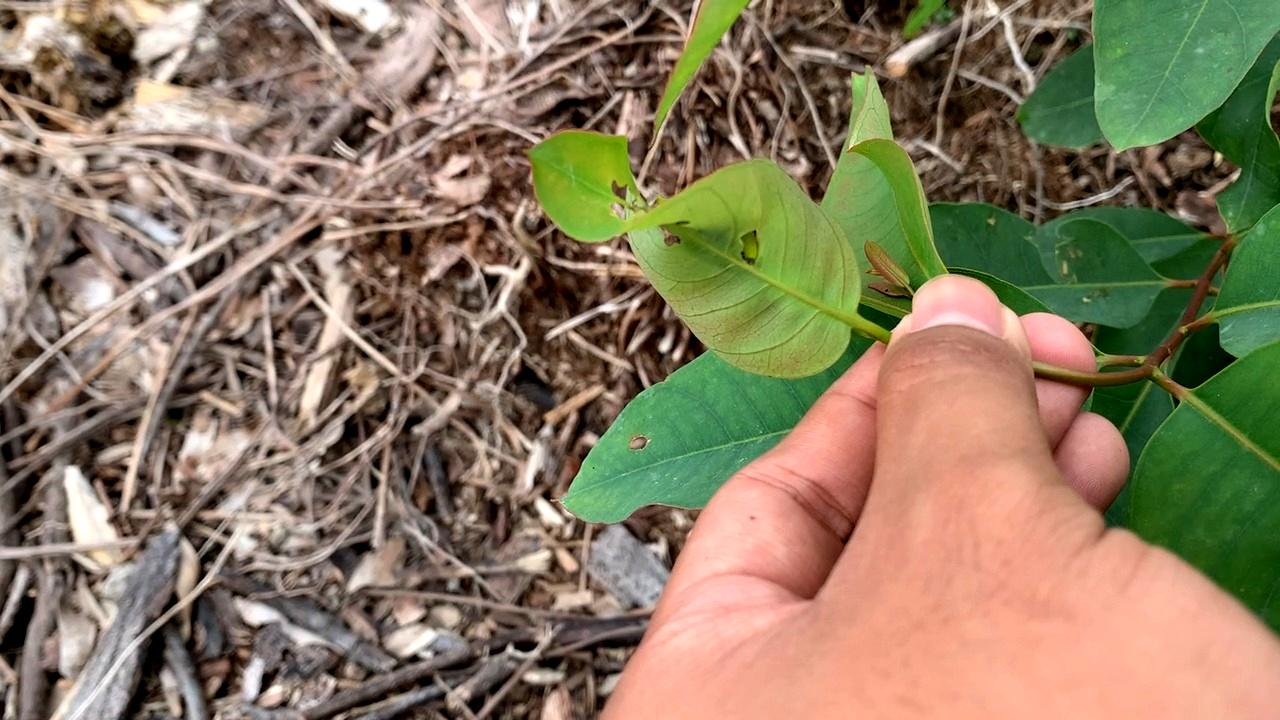Leaf Roller - Leaf: (527, 127, 860, 383)
